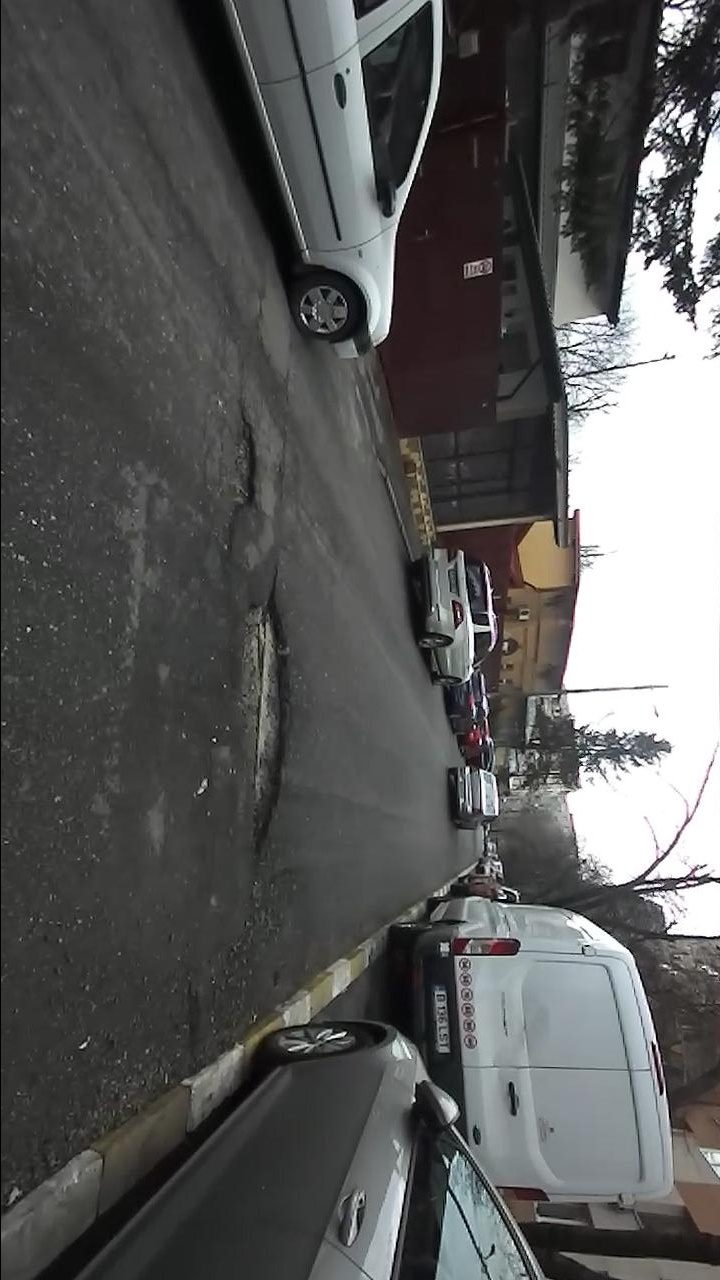pothole: (229, 568, 295, 873), (220, 393, 261, 542)
